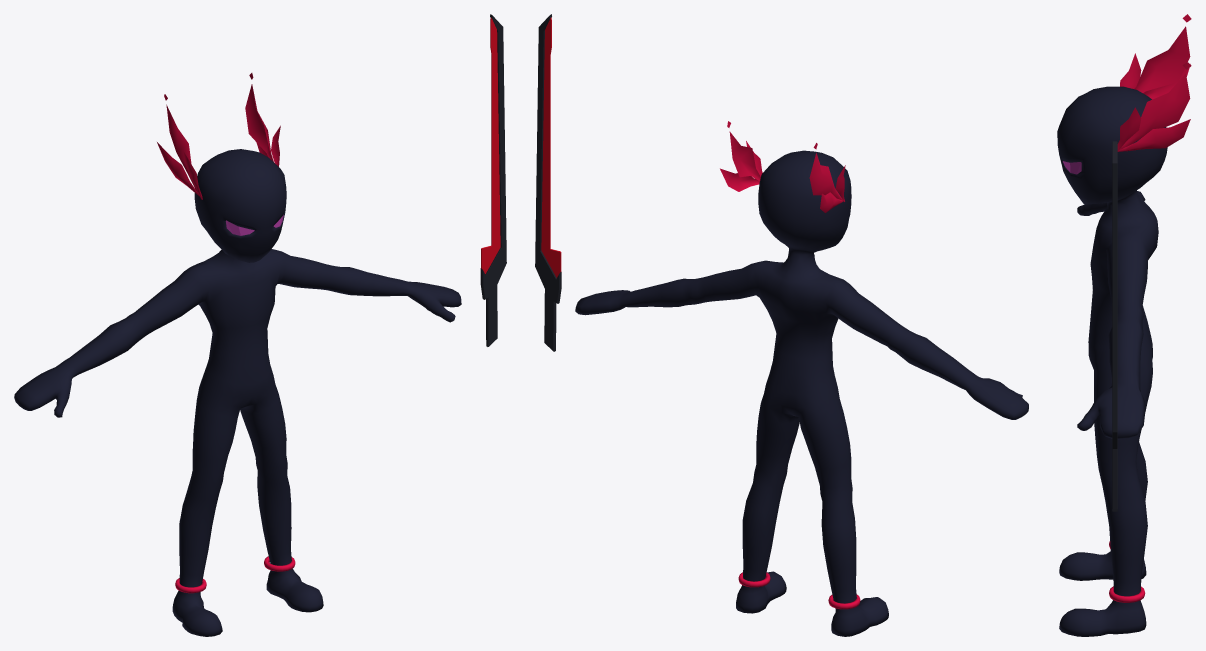
Rendered from red+sword_2.FBX.
3 renders of one model, left to right at view 1: azimuth 30°, elevation 25°; view 2: azimuth 150°, elevation 25°; view 3: azimuth 270°, elevation 25°, orthographic. The views are drawn at different scales.
Parts seen in each view (by area): view 1: RED, object_1, HeaddressObject002, object_2; view 2: RED, object_1, HeaddressObject002, object_2; view 3: RED, HeaddressObject002, object_1, Foot.
Boxes of the visible parts, box(x1,y1,x2,y2) form: RED: box(14, 149, 461, 636); object_1: box(480, 14, 506, 346); HeaddressObject002: box(157, 73, 280, 199); object_2: box(481, 17, 500, 273); RED: box(575, 150, 1028, 636); object_1: box(535, 14, 561, 351); HeaddressObject002: box(720, 121, 845, 212); object_2: box(541, 17, 561, 277); RED: box(1057, 86, 1167, 636); HeaddressObject002: box(1117, 14, 1191, 151); object_1: box(1112, 141, 1117, 511); Foot: box(1109, 541, 1145, 602).
Size of the model in its own units: 2567 by 2679 by 547.
